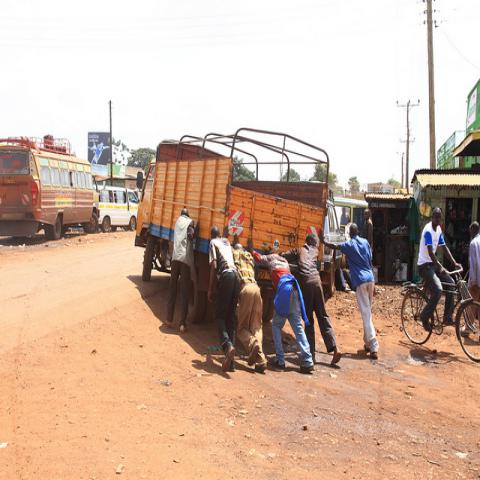bus: (1, 139, 98, 236)
car: (320, 198, 346, 298), (333, 196, 369, 240)
truck: (133, 125, 331, 326)
